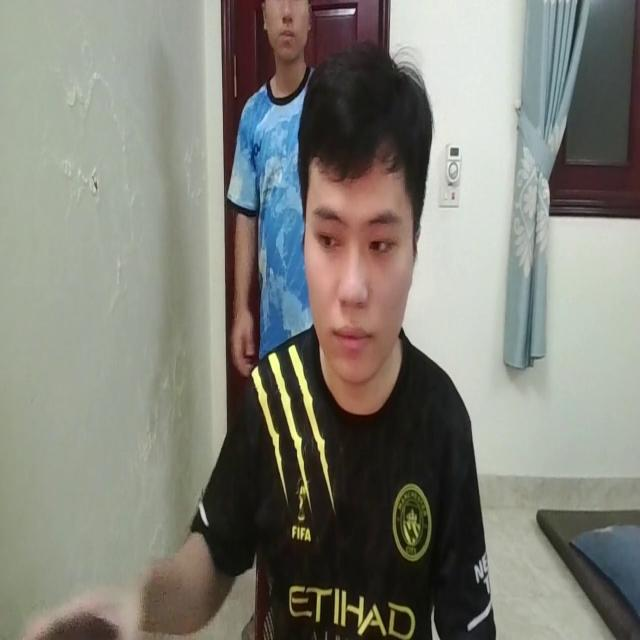extra_person: (226, 0, 317, 369)
student: (121, 50, 499, 640)
